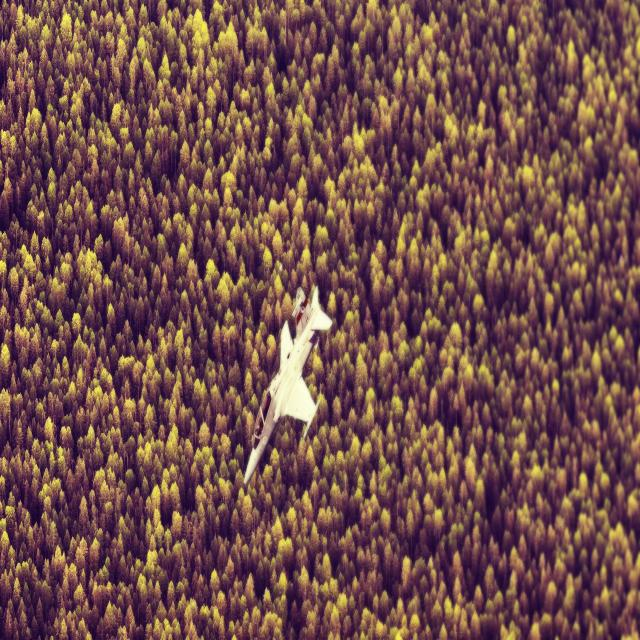airplane: (242, 282, 333, 487)
